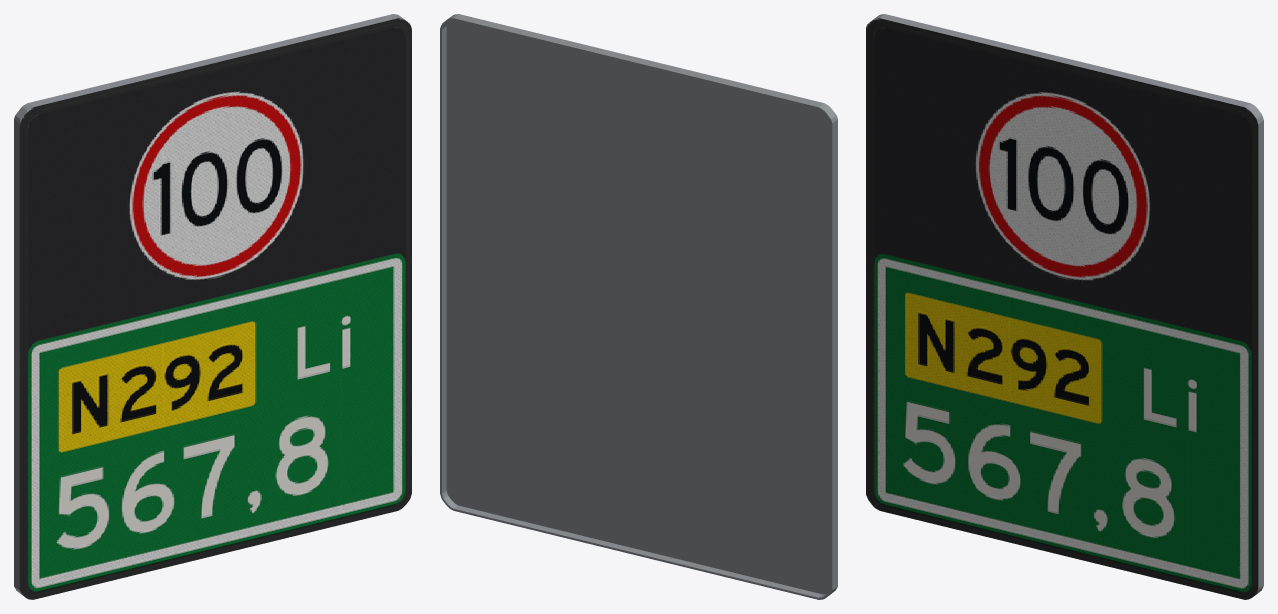
The picture shows the model from 3 angles, left to right: view 1: azimuth 30°, elevation 25°; view 2: azimuth 150°, elevation 25°; view 3: azimuth 330°, elevation 25°; orthographic projection.
Visible parts, largest first — view 1: cat_4a59d1c0140a95c0; view 2: cat_4a59d1c0140a95c0; view 3: cat_4a59d1c0140a95c0.
Part boxes in pixels (left/top/right/bottom): cat_4a59d1c0140a95c0: left=14, top=14, right=411, bottom=599; cat_4a59d1c0140a95c0: left=440, top=14, right=837, bottom=599; cat_4a59d1c0140a95c0: left=866, top=14, right=1263, bottom=599.
Size of the model in its own units: 0.6 by 0.015 by 0.72.
Materials: 2 (1 with a texture image).
